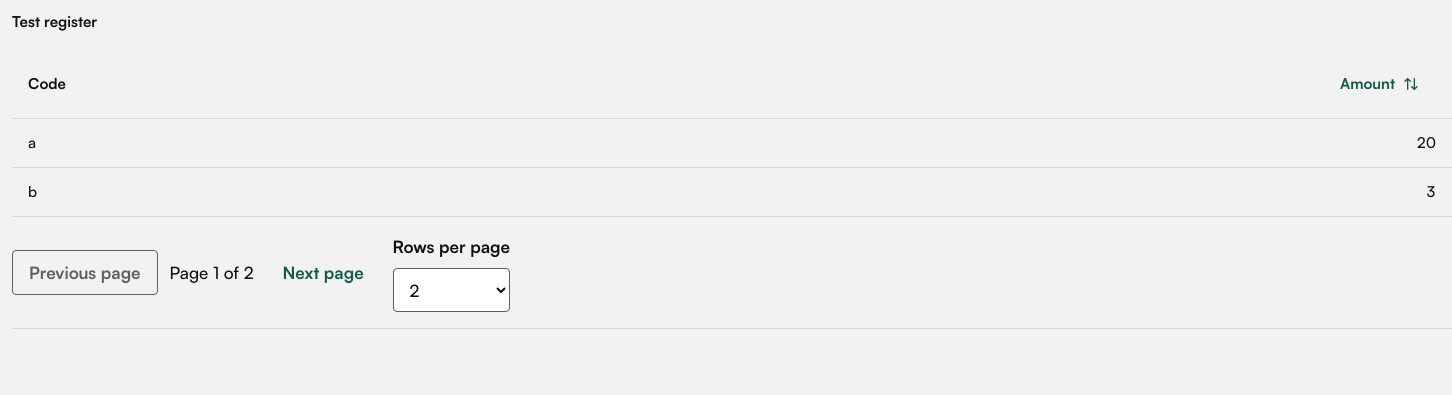
Test: sorts numeric values, announces sort direction, and paginates
Click the button "Amount" at coordinates (1380, 84), box left=1323, top=62, right=1436, bottom=106
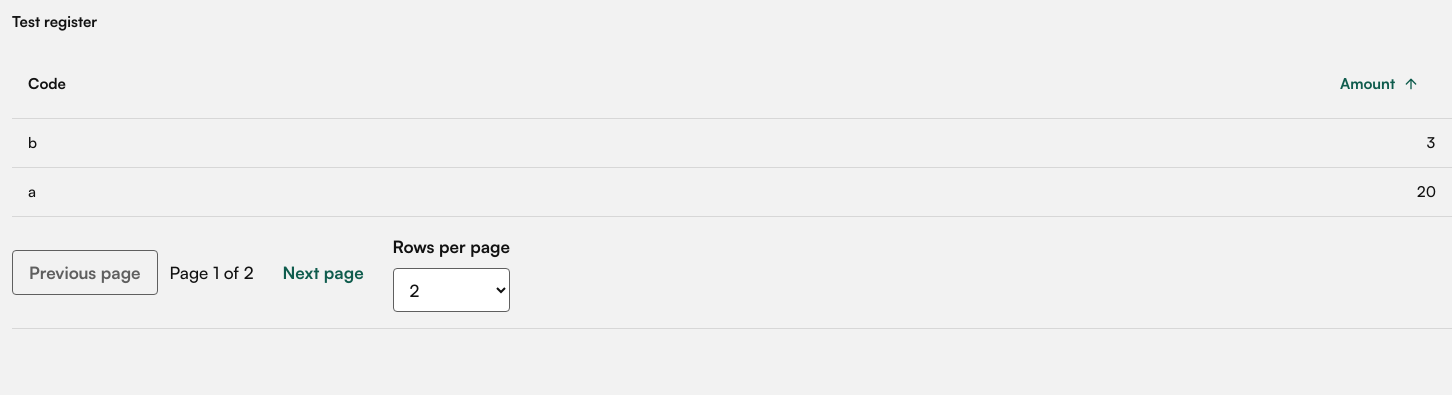
Check: the row "b 3" is shown, box left=12, top=118, right=1451, bottom=168
Check: the column heading "Amount" has attribute aria-sort="ascending", box left=481, top=50, right=1451, bottom=118
Click the button "Amount" at coordinates (1380, 84), box left=1323, top=62, right=1436, bottom=106
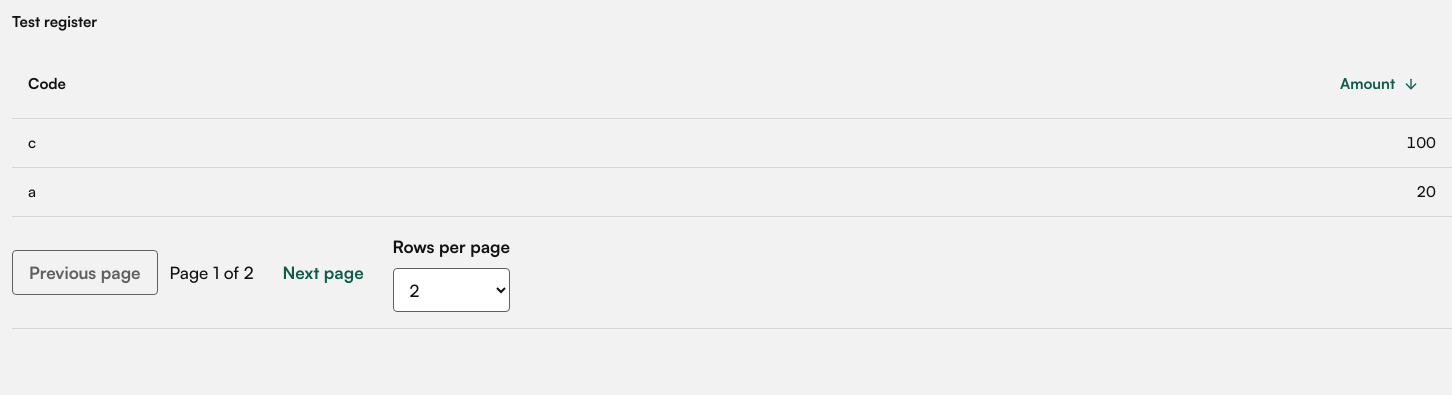
Check: the row "c 100" is shown, box left=12, top=118, right=1451, bottom=168
Click the button "Next page" at coordinates (323, 273), box left=265, top=250, right=381, bottom=295
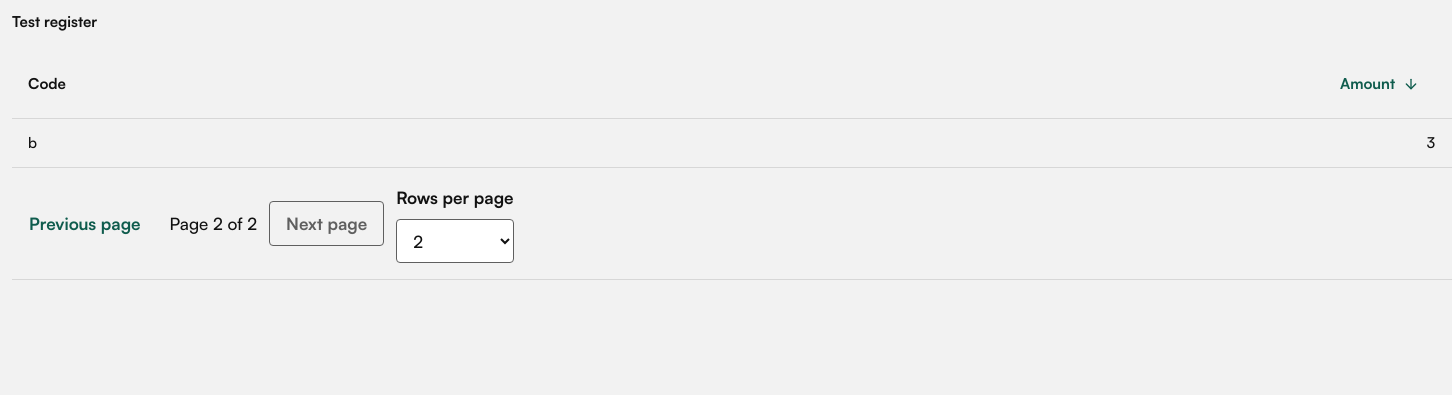
Check: the text "Page 2 of 2" is shown, box left=170, top=210, right=257, bottom=237
Select "3" in the dropdown labelled "Rows per page" at coordinates (455, 241), box left=396, top=219, right=514, bottom=263
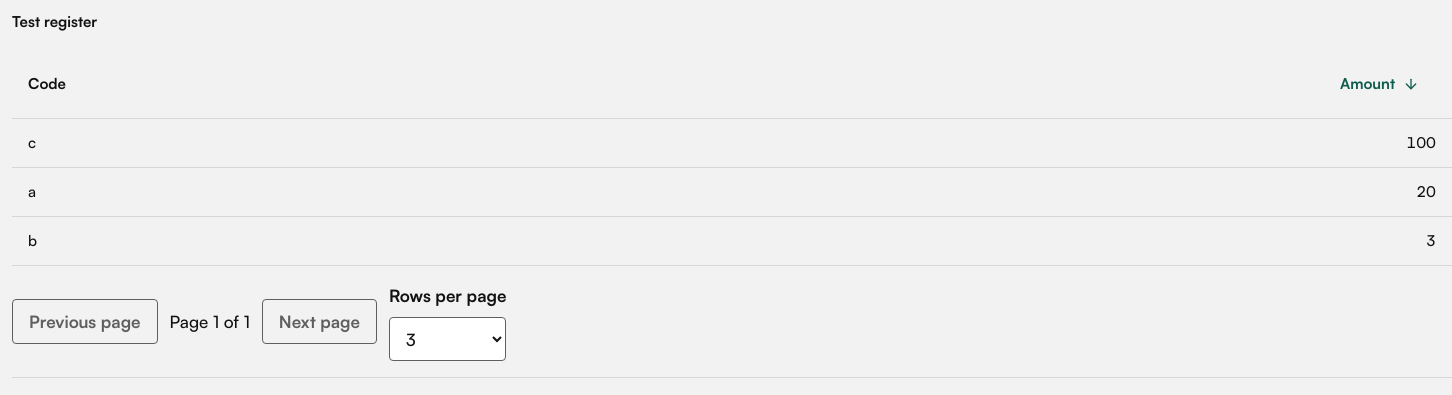
Check: the number of rows is 4, box left=12, top=50, right=1451, bottom=118; left=12, top=118, right=1451, bottom=168; left=12, top=168, right=1451, bottom=216; left=12, top=216, right=1451, bottom=266
